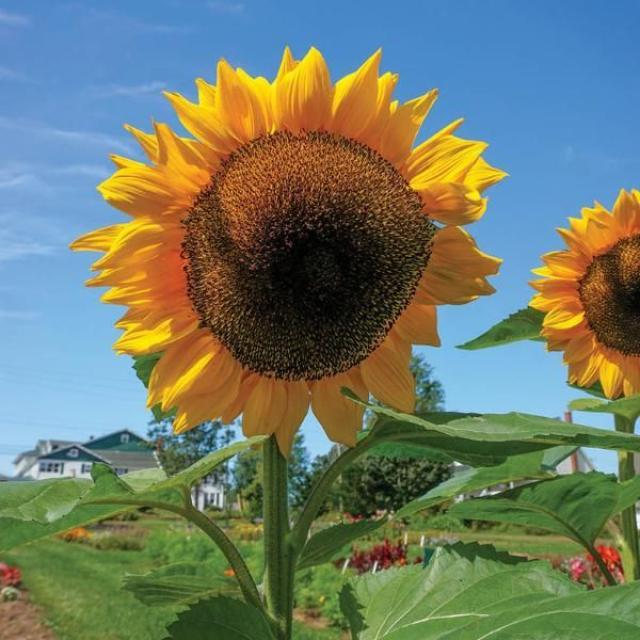sunflower: (68, 43, 508, 460), (527, 186, 639, 400)
